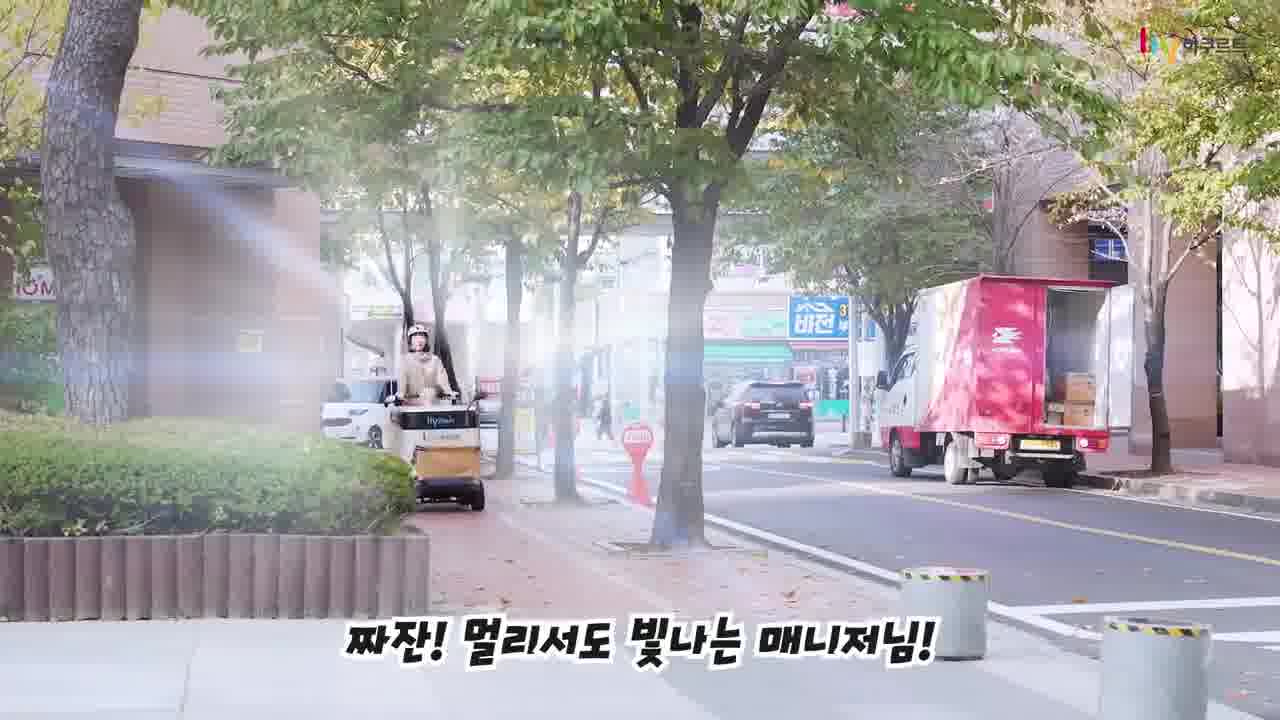Yakurut: (386, 323, 465, 433)
